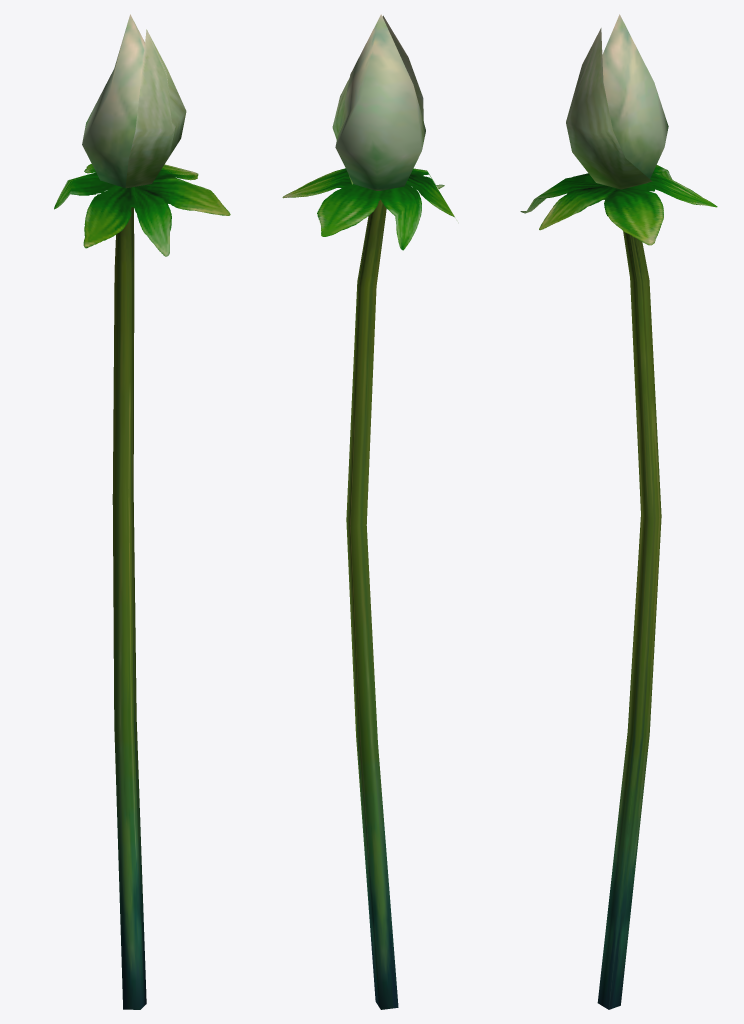
The model's file is environment_Tree_hehua_001_c.FBX.
3 renders of one model, left to right at view 1: azimuth 30°, elevation 25°; view 2: azimuth 150°, elevation 25°; view 3: azimuth 270°, elevation 25°, orthographic.
Parts seen in each view (by area): view 1: environment_Tree_hehua_001_c; view 2: environment_Tree_hehua_001_c; view 3: environment_Tree_hehua_001_c.
Part boxes in pixels (left/top/right/bottom): environment_Tree_hehua_001_c: left=54, top=14, right=230, bottom=1009; environment_Tree_hehua_001_c: left=282, top=14, right=454, bottom=1009; environment_Tree_hehua_001_c: left=520, top=14, right=717, bottom=1009.
Size of the model in its own units: 31.72 by 160 by 33.84.
Materials: 1 (1 with a texture image).
